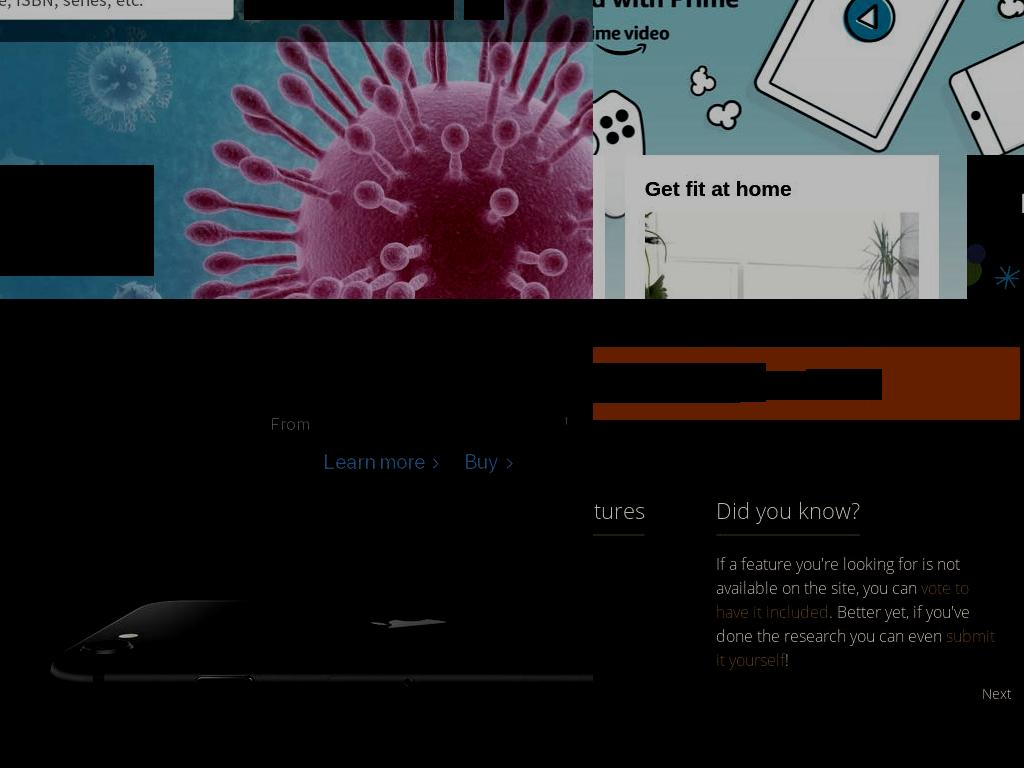button: (644, 212, 920, 299), (593, 435, 1021, 478), (765, 371, 882, 400), (973, 682, 1021, 705)
field: (593, 363, 740, 403), (0, 0, 234, 20), (244, 0, 454, 20), (464, 0, 504, 20)
heading: (0, 299, 593, 344), (244, 349, 593, 405), (0, 165, 154, 276), (593, 474, 1024, 513), (644, 175, 920, 202), (715, 498, 860, 521), (593, 498, 645, 521)
image: (644, 212, 920, 299)
link: (715, 624, 995, 671), (715, 576, 969, 623), (323, 448, 441, 474), (464, 448, 514, 474), (563, 414, 569, 427)
text: (21, 346, 593, 768), (593, 299, 1021, 331), (715, 600, 970, 647), (715, 552, 960, 599), (457, 413, 563, 434), (806, 369, 882, 398), (314, 411, 391, 437), (416, 411, 458, 437), (739, 363, 766, 402), (270, 413, 315, 434), (390, 413, 416, 434), (784, 648, 789, 671)
